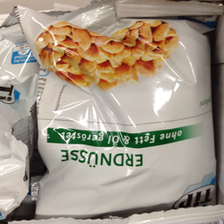nuts: (15, 5, 224, 218)
